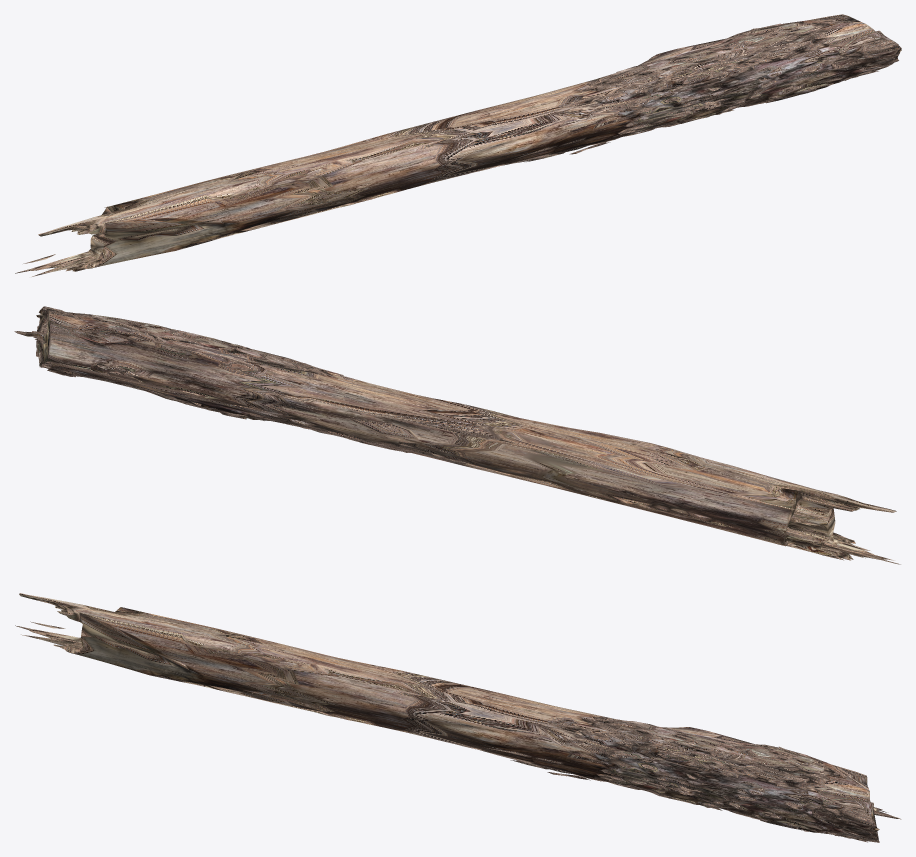
File: flood-log.glb
3 renders of one model, top to bottom at view 1: azimuth 30°, elevation 25°; view 2: azimuth 150°, elevation 25°; view 3: azimuth 330°, elevation 25°, orthographic.
Visible parts, largest first — view 1: flood-log; view 2: flood-log; view 3: flood-log.
Boxes of the visible parts, bbox=[...] form: flood-log: bbox=[15, 14, 901, 276]; flood-log: bbox=[14, 306, 900, 564]; flood-log: bbox=[15, 593, 901, 842].
Bounding box in the file's own units: 38.35 × 2.81 × 3.35.
Materials: 1 (1 with a texture image).
